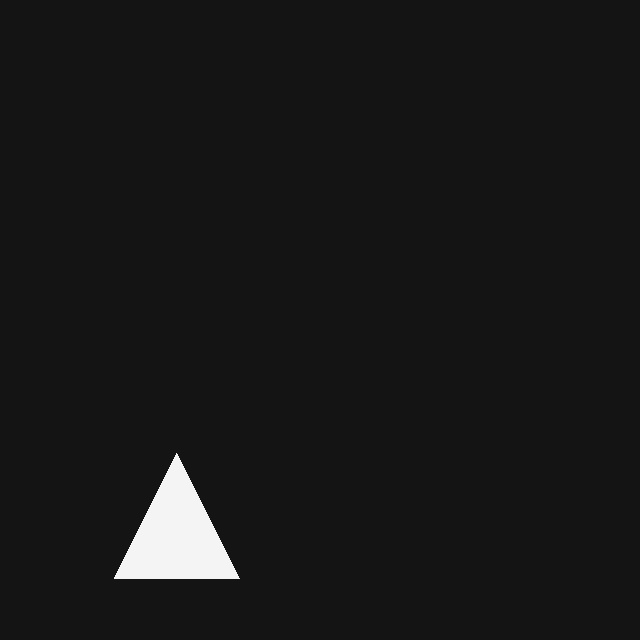triangle: (114, 453, 239, 578)
